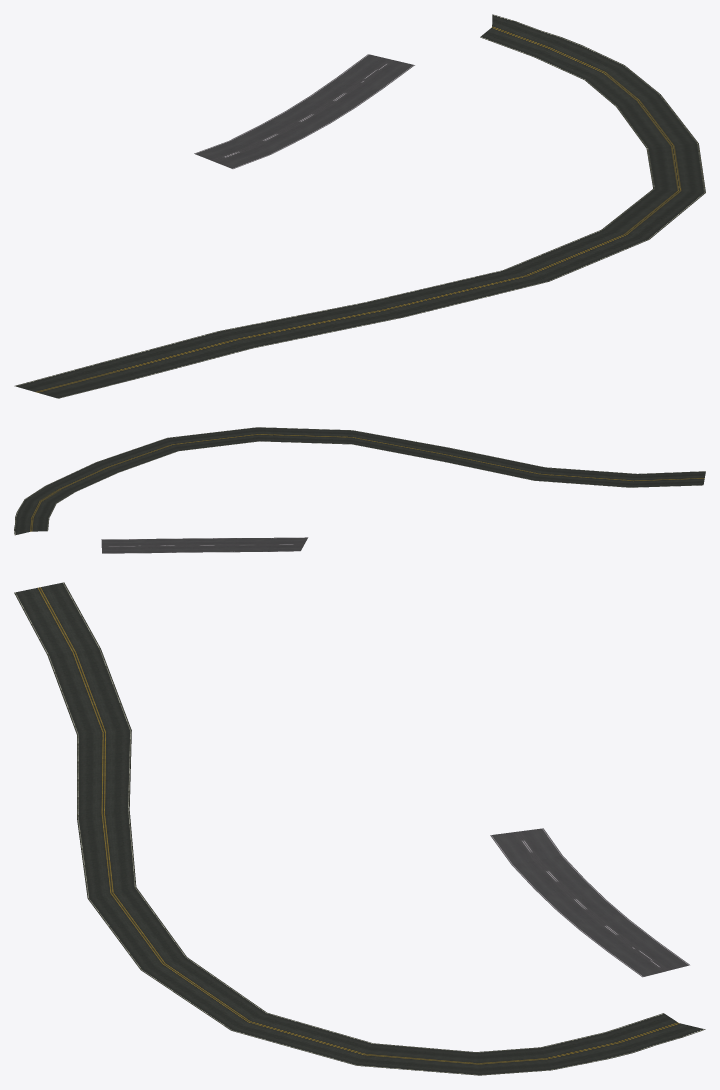
Rendered from cs_roads16.obj.
3 renders of one model, top to bottom at view 1: azimuth 30°, elevation 25°; view 2: azimuth 150°, elevation 25°; view 3: azimuth 270°, elevation 25°, orthographic. The views are drawn at different scales.
Visible parts, largest first — view 1: cs_roads16; view 2: cs_roads16; view 3: cs_roads16.
Boxes of the visible parts, x1,y1,x2,y2 form: cs_roads16: (14, 14, 705, 398); cs_roads16: (14, 427, 705, 553); cs_roads16: (14, 582, 705, 1075).
Bounding box in the file's own units: 218 × 15.22 × 149.
Materials: 2 (2 with a texture image).
